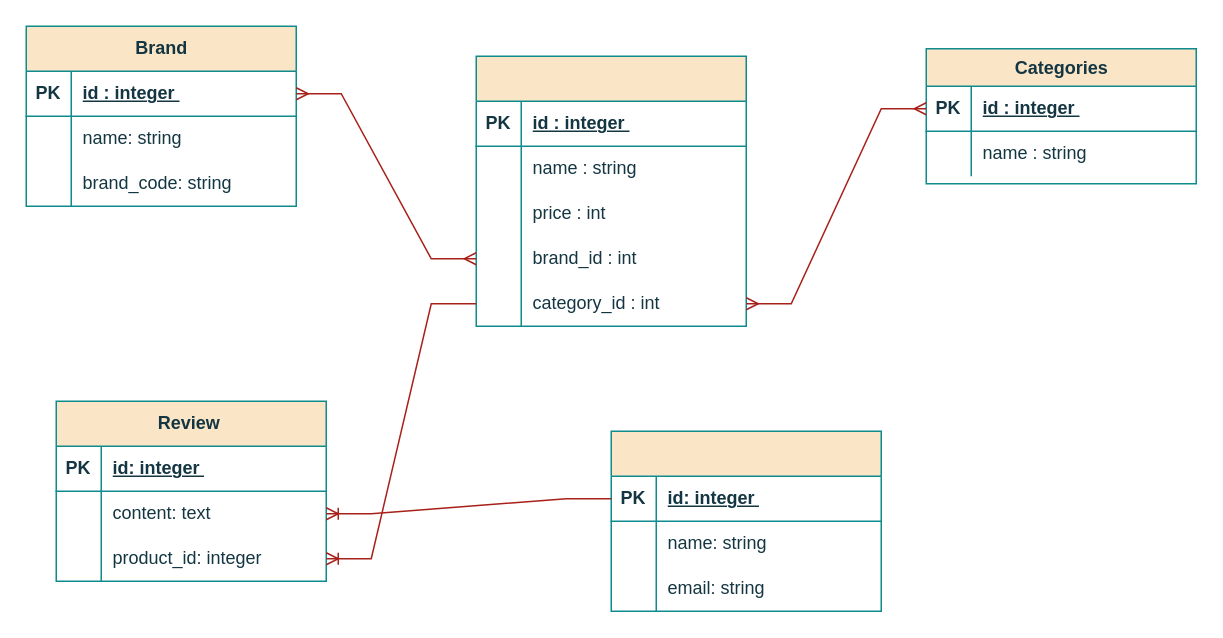
Some shapes in this 1223 by 638 pixel diagram are drawn without their labels. Each missing label, with the box of its shape:
Products: (475, 55, 746, 326)
Users: (610, 430, 881, 611)
